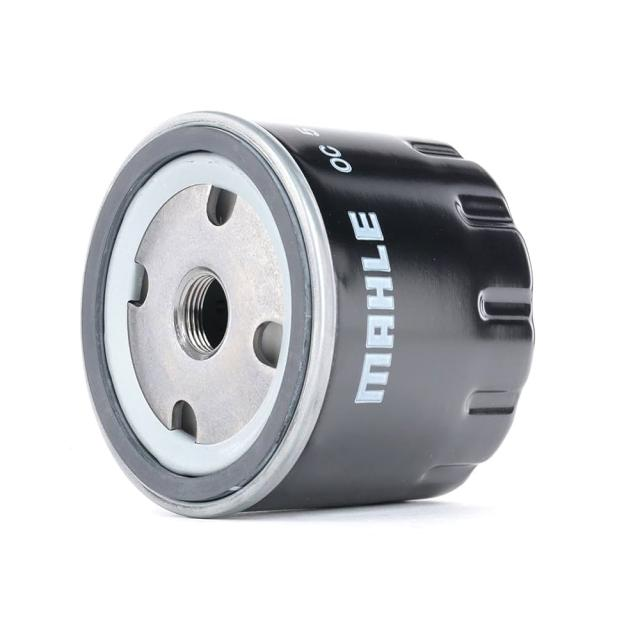oil_filter: (66, 113, 538, 533)
